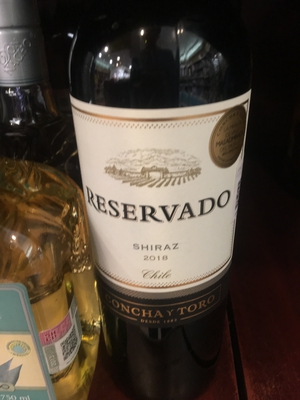reservado shiraz: (65, 20, 263, 357)
